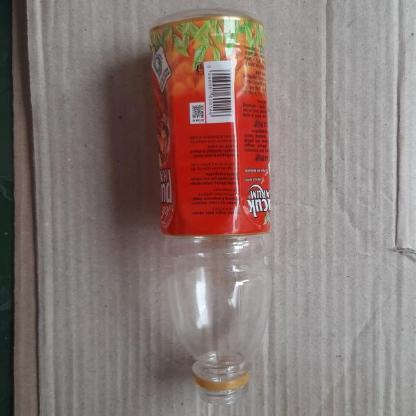Plastic Bottle: (148, 8, 272, 402)
